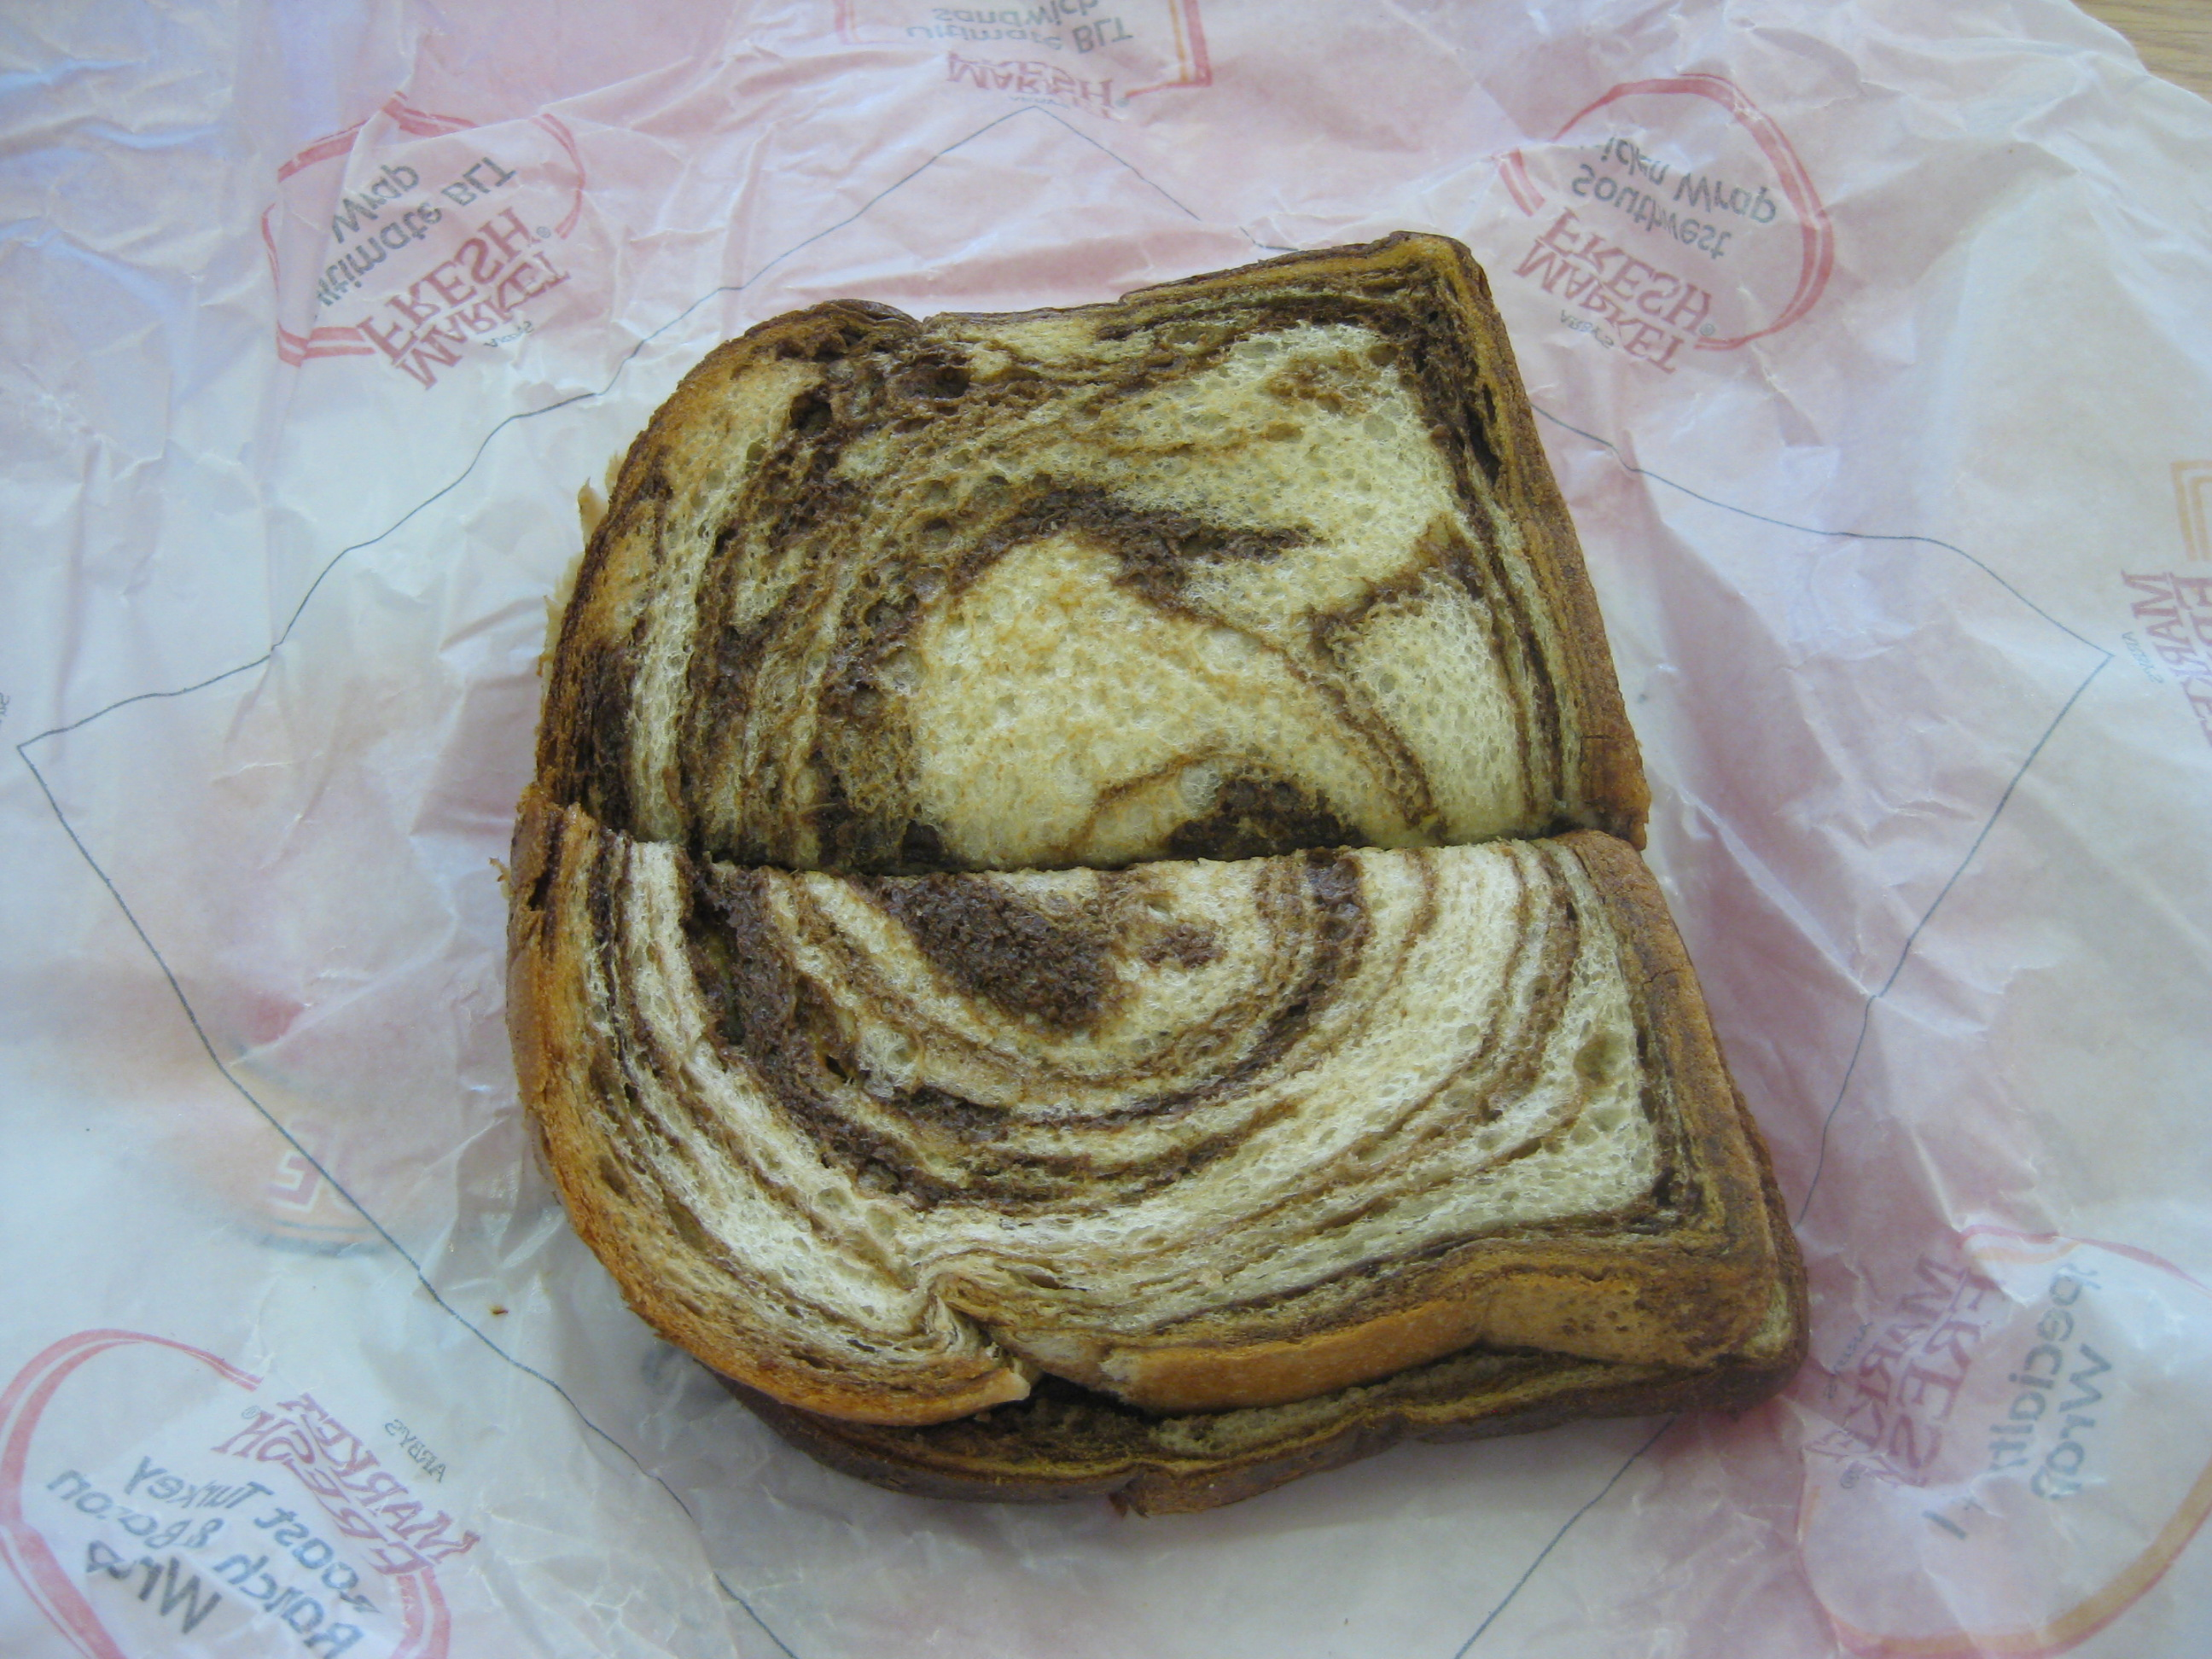sandwich: (497, 245, 1879, 1495)
